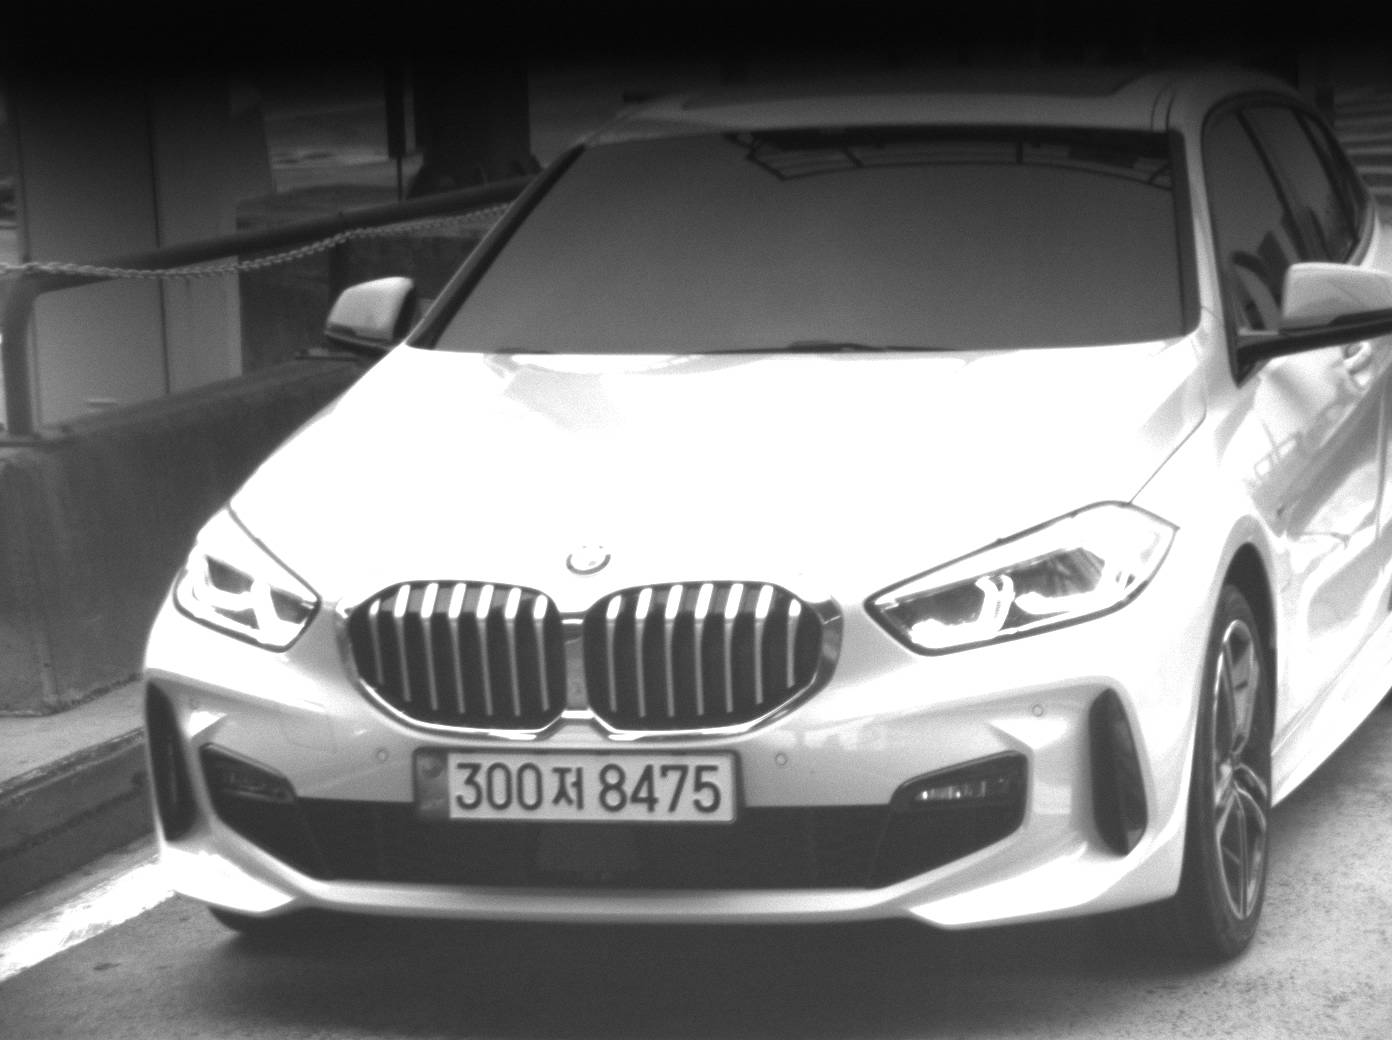car: (142, 57, 1392, 972)
plate: (412, 747, 750, 827)
